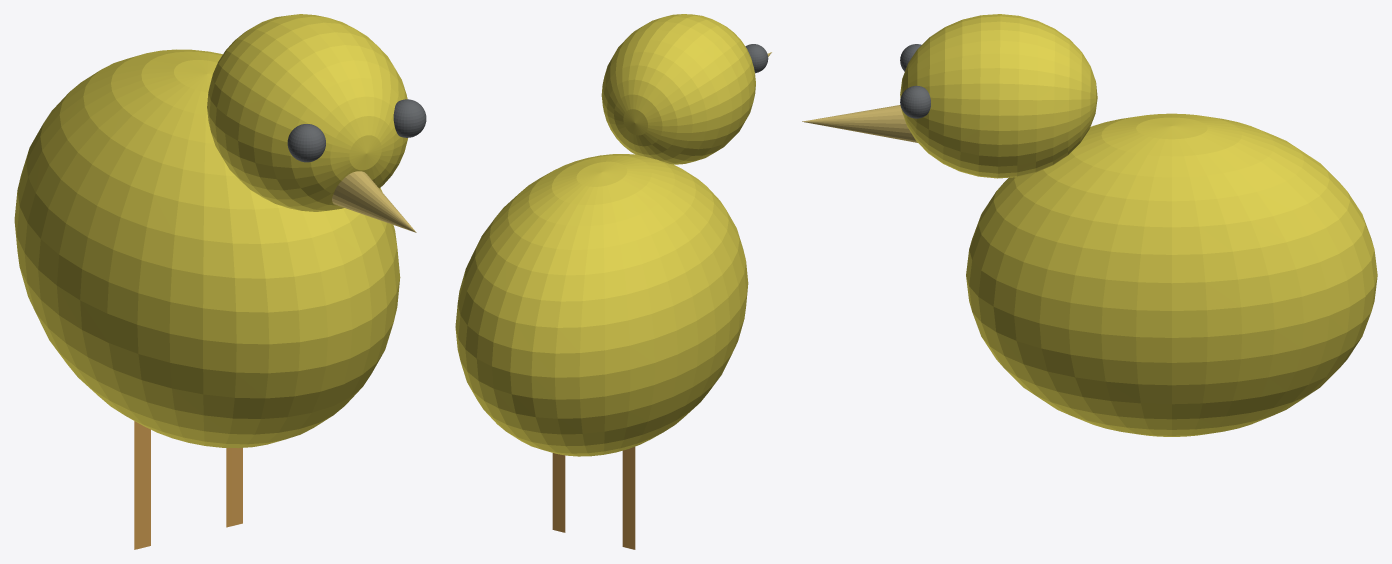
The model's file is asset.glb.
The picture shows the model from 3 angles, left to right: view 1: azimuth 30°, elevation 25°; view 2: azimuth 150°, elevation 25°; view 3: azimuth 270°, elevation 25°; orthographic projection. The views are drawn at different scales.
Visible parts, largest first — view 1: Mesh_Mesh_head_geo.001_lambert2SG.001; view 2: Mesh_Mesh_head_geo.001_lambert2SG.001; view 3: Mesh_Mesh_head_geo.001_lambert2SG.001.
Part boxes in pixels (x1,y1,x2,y2): Mesh_Mesh_head_geo.001_lambert2SG.001: (14,14,426,549); Mesh_Mesh_head_geo.001_lambert2SG.001: (455,14,771,549); Mesh_Mesh_head_geo.001_lambert2SG.001: (802,14,1377,436).
Size of the model in its own units: 18 by 34 by 35.
